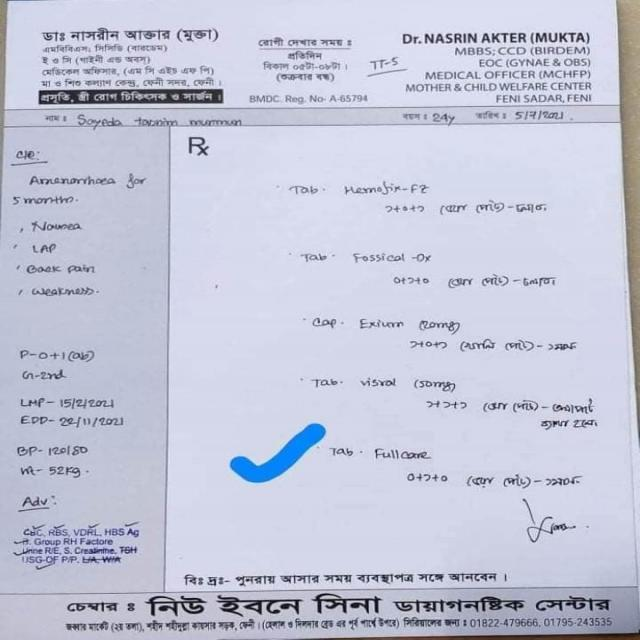Exium: (346, 311, 411, 336)
Fossical DX: (345, 248, 438, 271)
Fullcare: (367, 442, 436, 468)
Hemofix FZ: (331, 175, 437, 205)
Visral: (352, 372, 407, 395)
